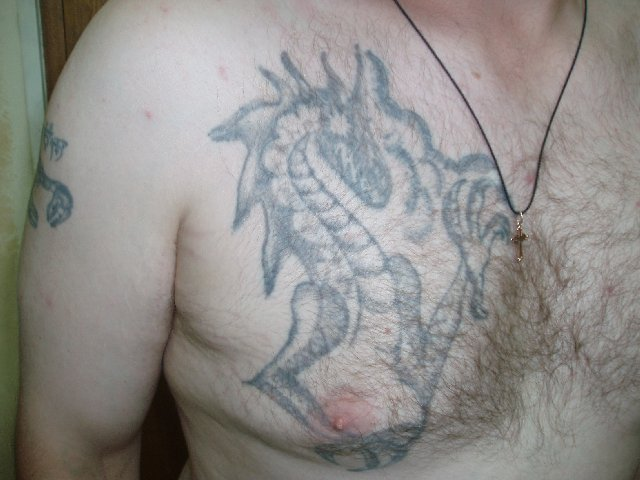tatu6_drakon: (177, 25, 552, 473)
